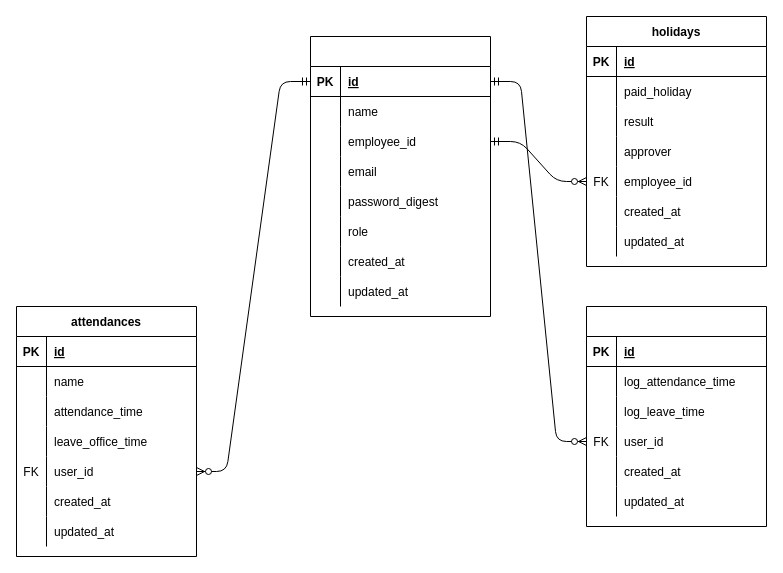
Image size: 783x573. Some labels were removed from this diagram. Here are the shapes that lost their labels. From the top down, the box of each, then its label:
(310, 36, 490, 316): Users
(586, 306, 766, 526): logs
